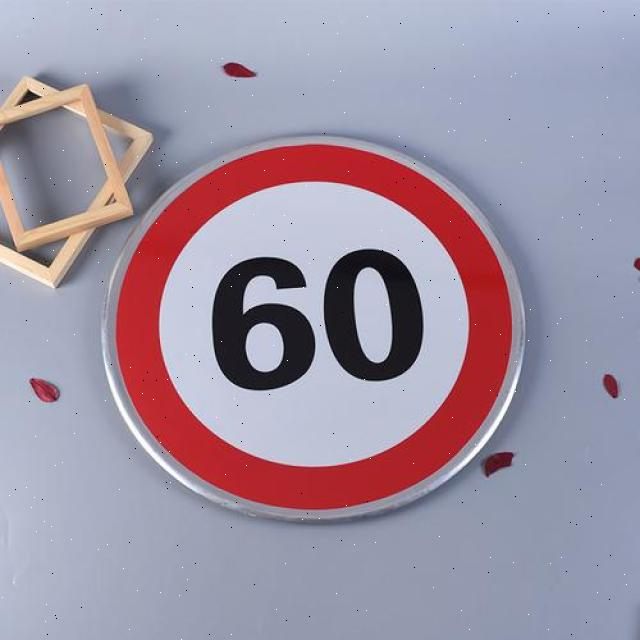speed limit 60: (102, 137, 530, 526)
